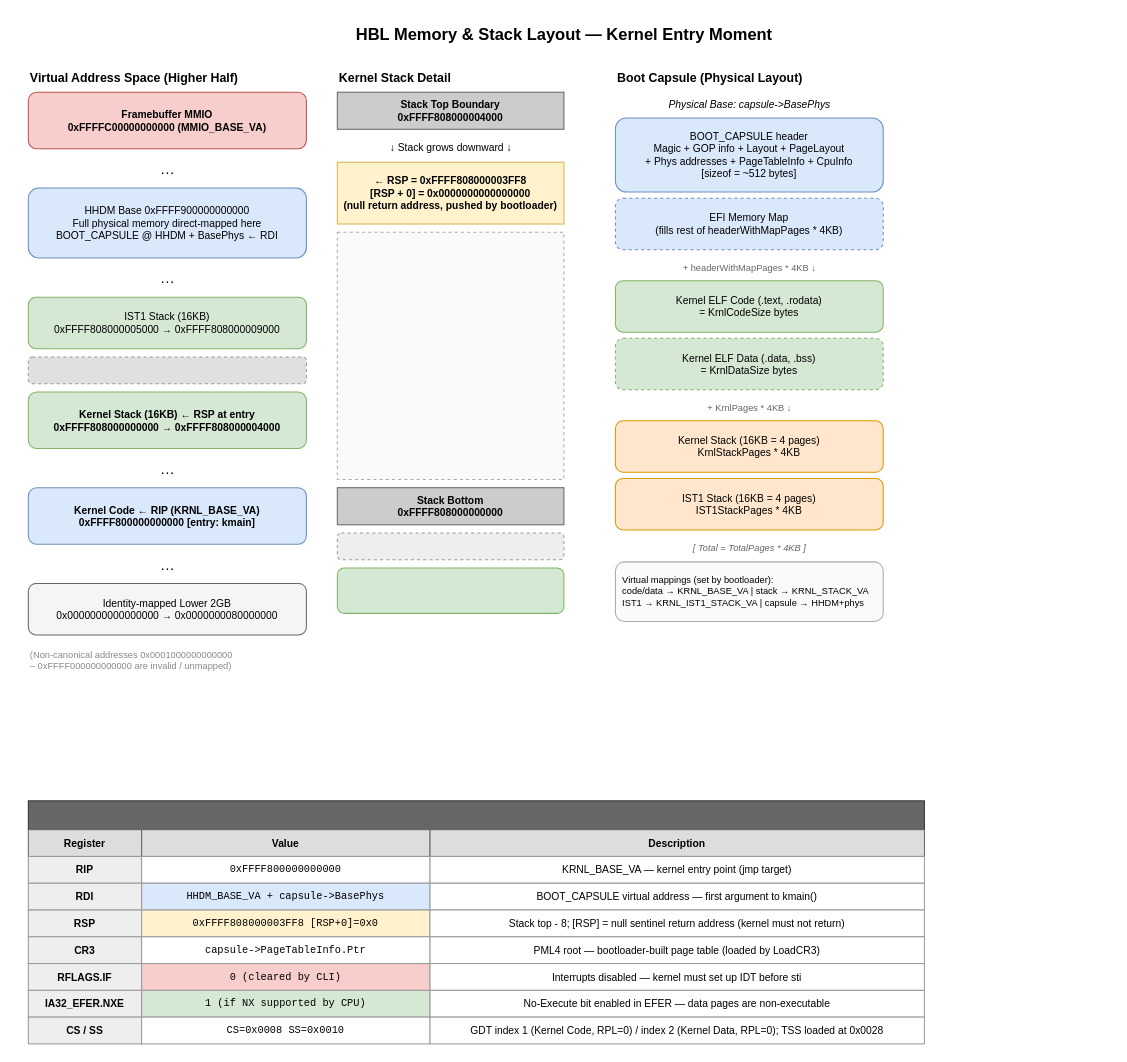
Some shapes in this 1127 by 1062 pixel diagram are drawn without their labels. The centre of each missing label's shape, as x and y in pixels:
"[ Guard Page 4KB — NOT MAPPED ]" goes at [450,546].
"CPU State at Kernel Entry" goes at [475,815].
"Guard Page (4KB, NOT mapped)" goes at [166,370].
"IST1 Stack Bottom: 0xFFFF808000005000 (+16KB to 0xFFFF808000009000)" goes at [450,590].
"↕ Unused stack space (~16 KB - 8 bytes)" goes at [450,355].
